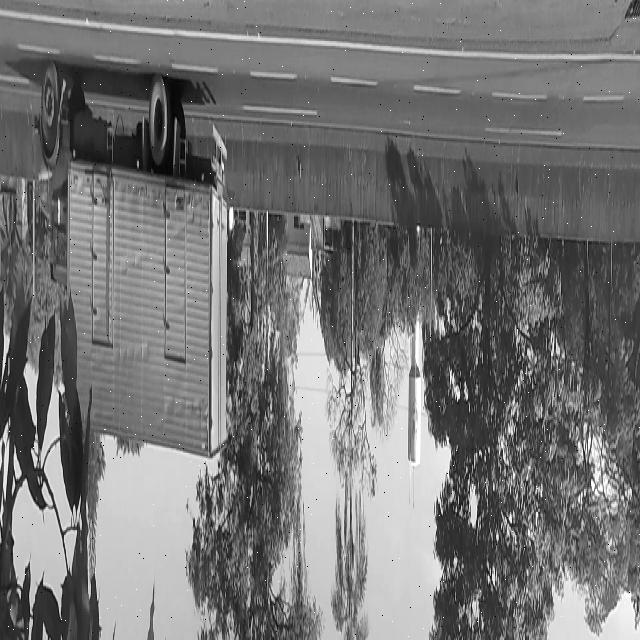-axle: (148, 59, 170, 171), (39, 54, 59, 150)
